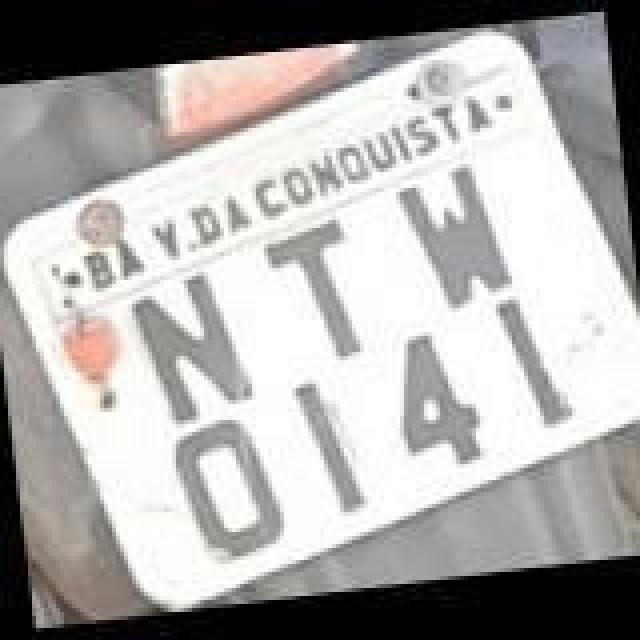1: (282, 370, 374, 526), (488, 288, 584, 432)
4: (382, 312, 498, 480)
N: (130, 260, 254, 428)
O: (174, 406, 290, 570)
T: (266, 210, 374, 374)
W: (396, 156, 516, 316)
